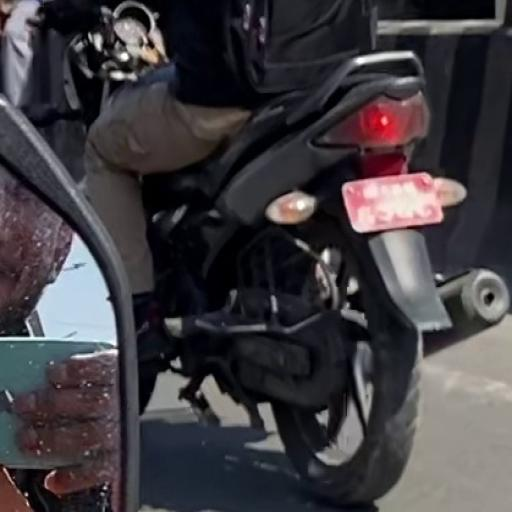license_plate: (339, 169, 449, 237)
